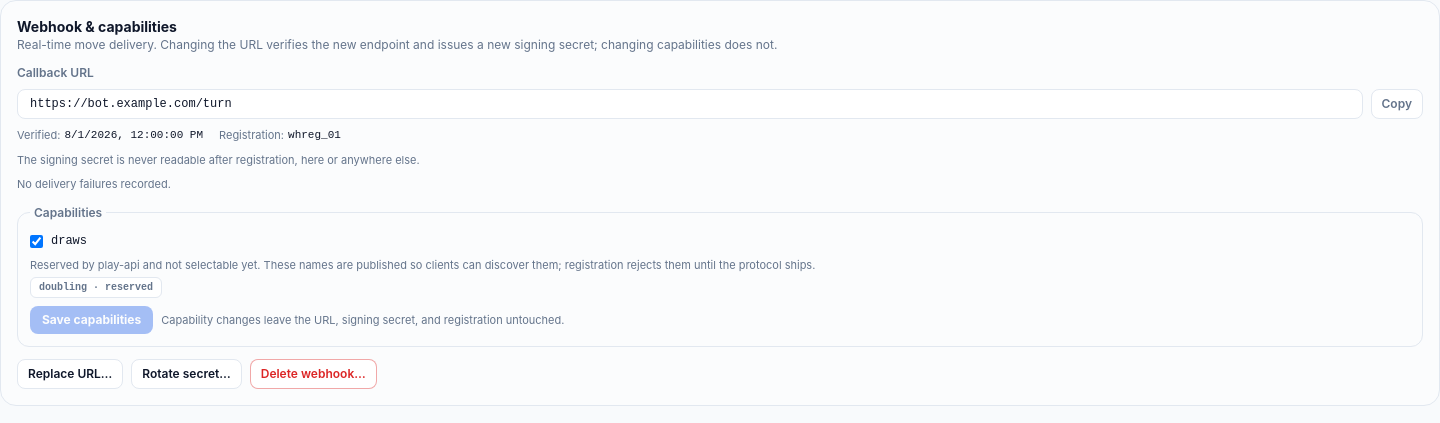
Test: BotWebhookPanel › capabilities › keeps the save button inert until the selection actually differs
The image size is (1440, 423).
Check: the button "Save capabilities" is disabled, box top-left (30, 306), bottom-right (153, 334)
Click the checkbox labelled "draws": (36, 241) top-left (30, 234), bottom-right (43, 248)
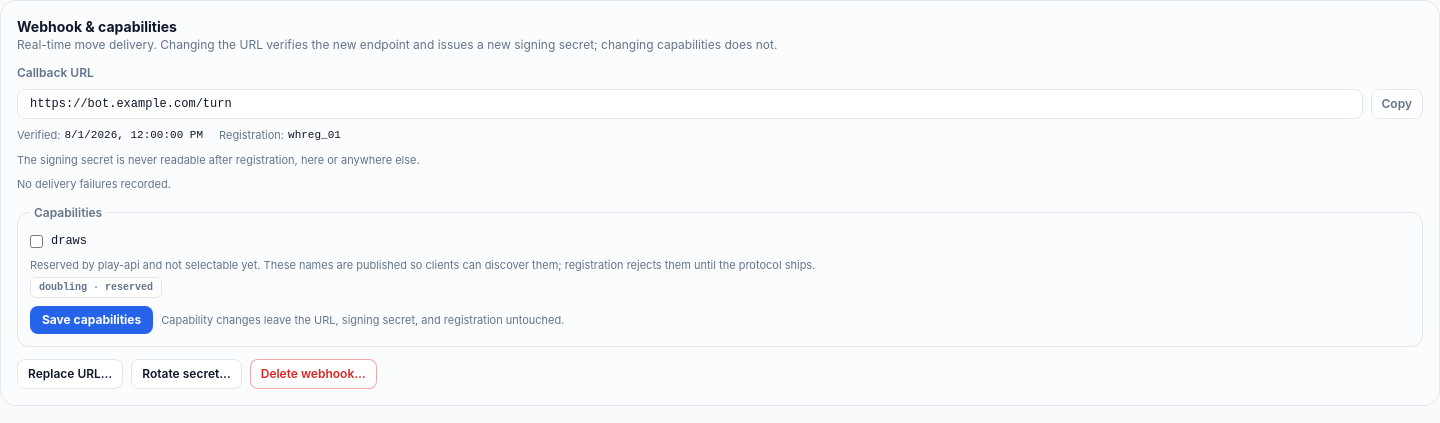
Check: the button "Save capabilities" is enabled, box top-left (30, 306), bottom-right (153, 334)
